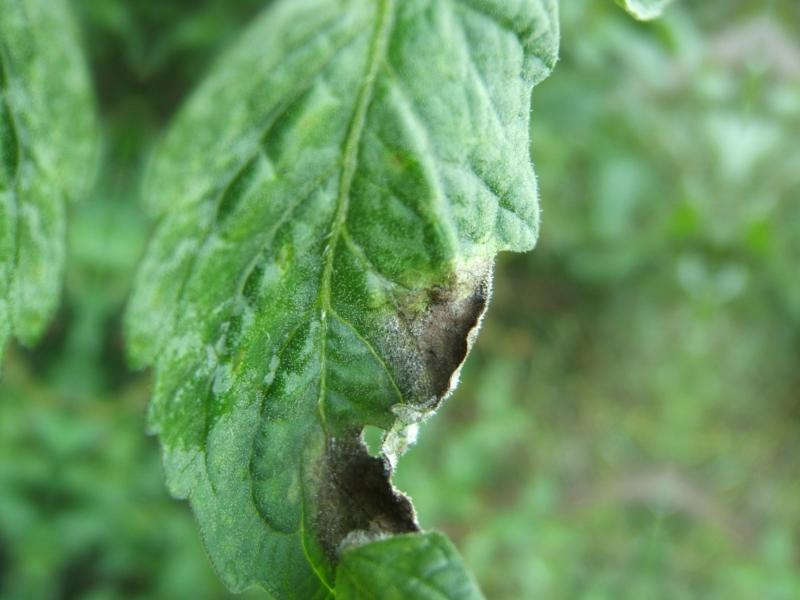Tomato leaf late blight: (44, 0, 618, 600)
